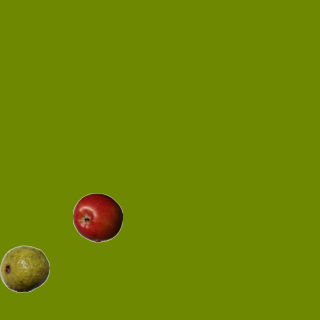Apple Braeburn: (72, 192, 122, 242)
Guava: (0, 243, 49, 293)
